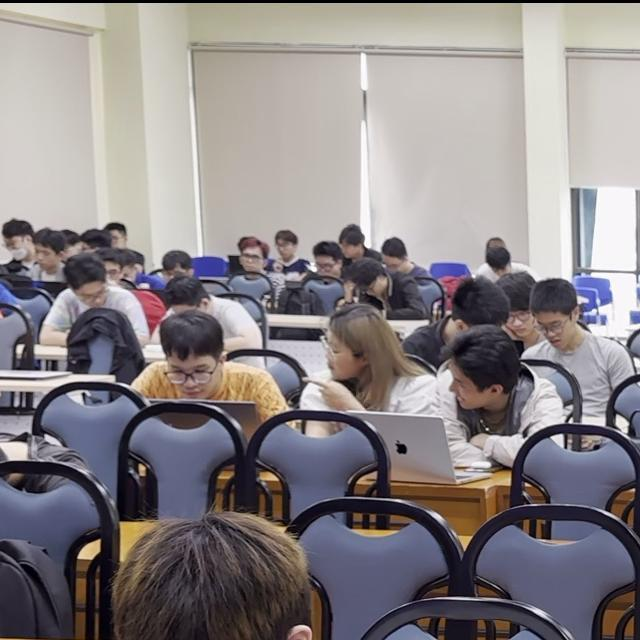Looking away: (165, 348, 220, 406), (442, 355, 491, 414), (320, 320, 362, 382), (534, 304, 576, 355), (73, 280, 111, 314)
